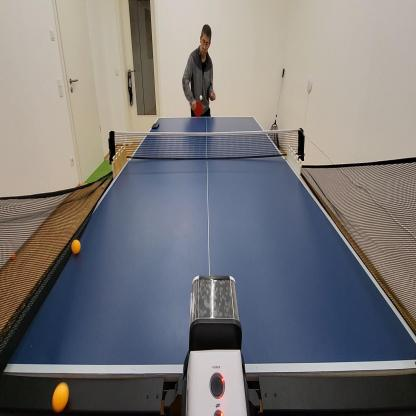Ball: (50, 379, 71, 414), (70, 237, 82, 256), (10, 250, 18, 262), (198, 93, 204, 102), (100, 182, 106, 191)
